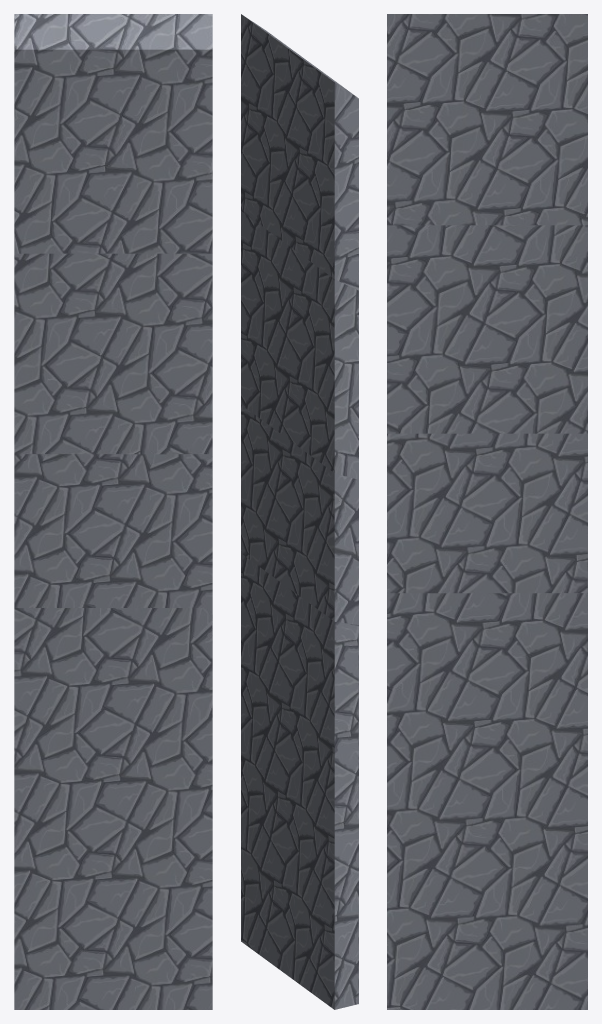
The model's file is paredIzq.fbx.
3 views of the same model, side by side, from view 1: azimuth 90°, elevation 25°; view 2: azimuth 210°, elevation 25°; view 3: azimuth 270°, elevation 25° (orthographic). The views are drawn at different scales.
Visible parts, largest first — view 1: pared1; view 2: pared1; view 3: pared1.
Part boxes in pixels (<box>): pared1: <box>14,14,212,1009</box>; pared1: <box>241,14,358,1009</box>; pared1: <box>387,14,587,1009</box>.
Bounding box in the file's own units: 3.45 × 126 × 23.
